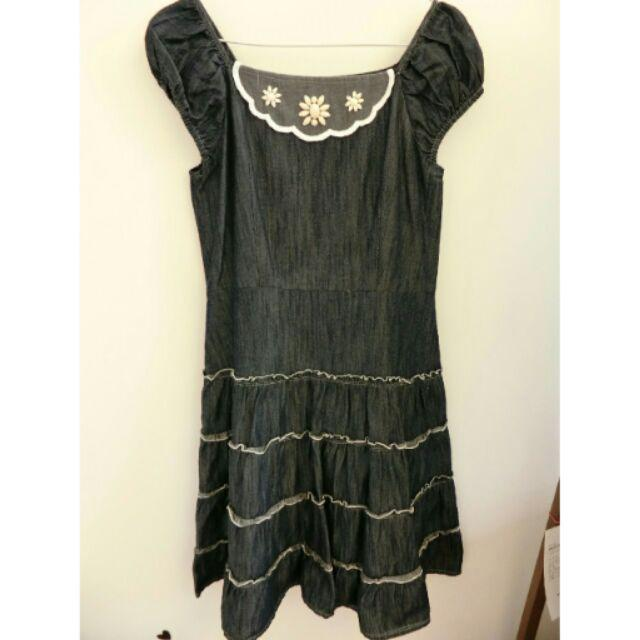Dresses: (150, 1, 485, 640)
